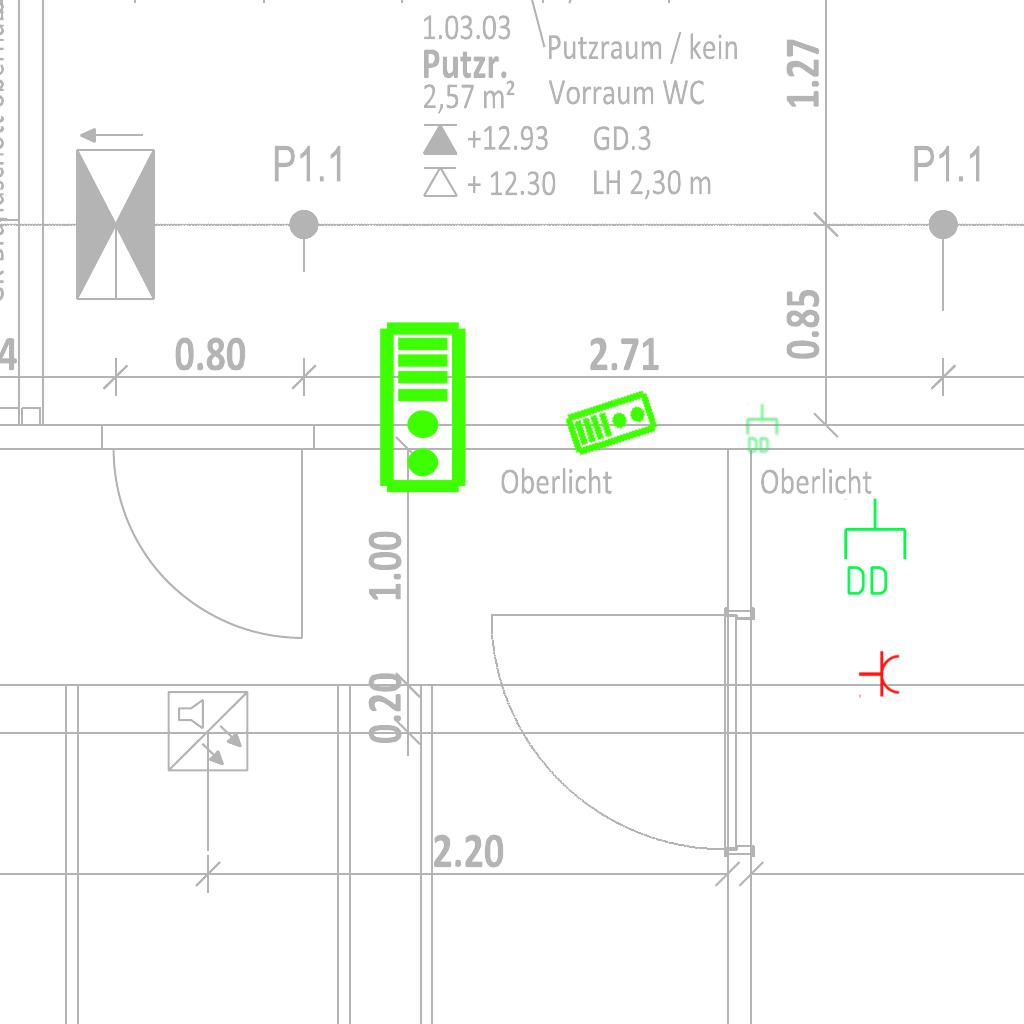Datenanschluss_zweifach: (840, 496, 909, 599), (745, 403, 779, 454)
Gegensprechanlage_mit_Video: (377, 320, 472, 496), (562, 386, 661, 458)
Schukosteckdose_einfach: (858, 650, 901, 700)
